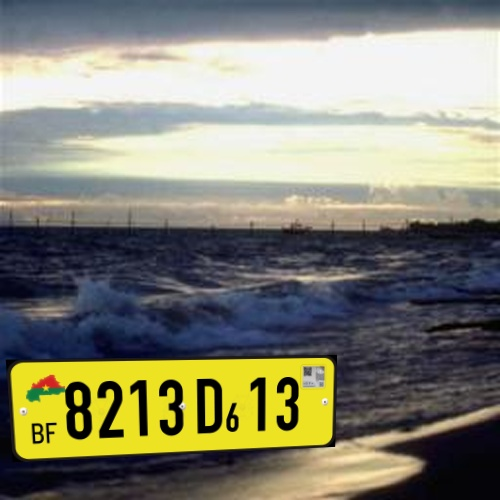plate: (6, 339, 355, 466)
